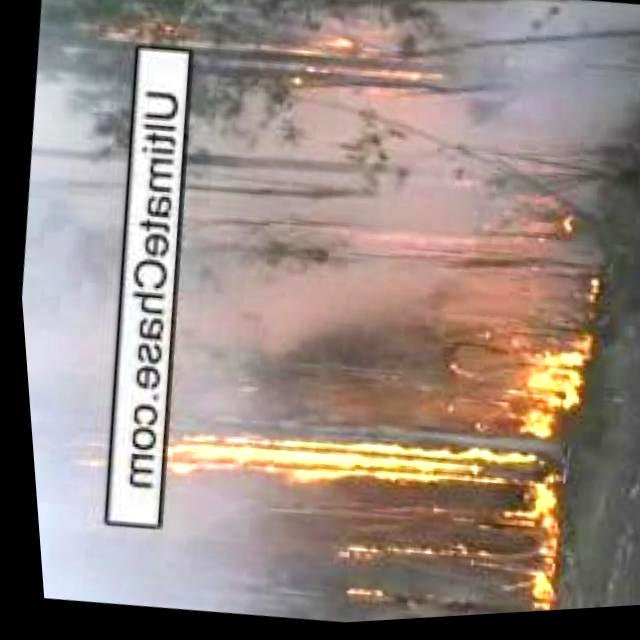fire: (87, 406, 559, 554), (251, 18, 453, 114), (484, 328, 592, 444), (498, 542, 550, 618), (510, 203, 578, 254)
